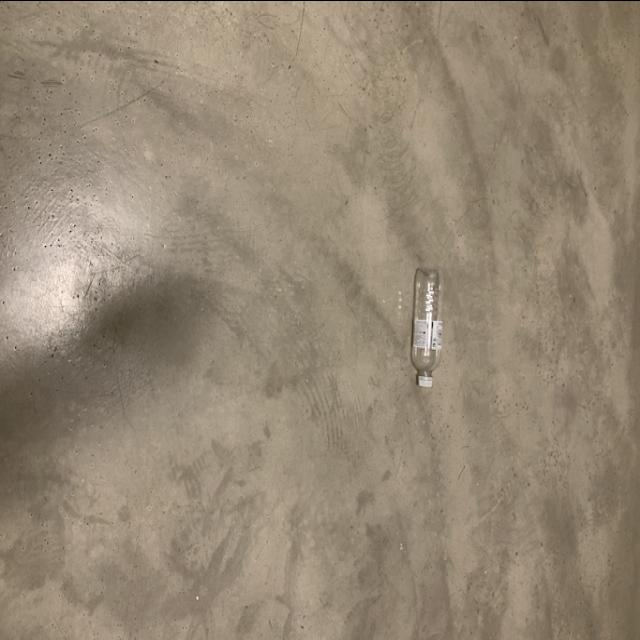litter: (411, 264, 446, 392)
